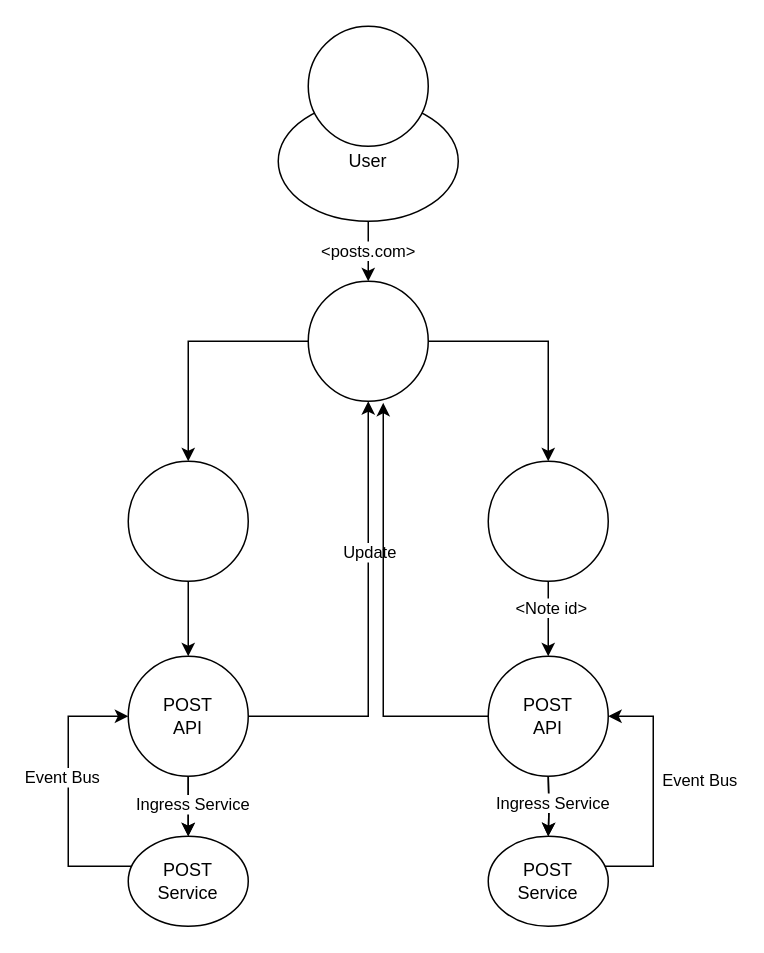
Some shapes in this 764 by 953 pixel diagram are drawn without their labels. The centre of each missing label's shape, as x and y in pixels:
"Access Website" belongs at point 367,340.
"Add Reminders" belongs at point 547,520.
"Create Notes" belongs at point 187,520.
